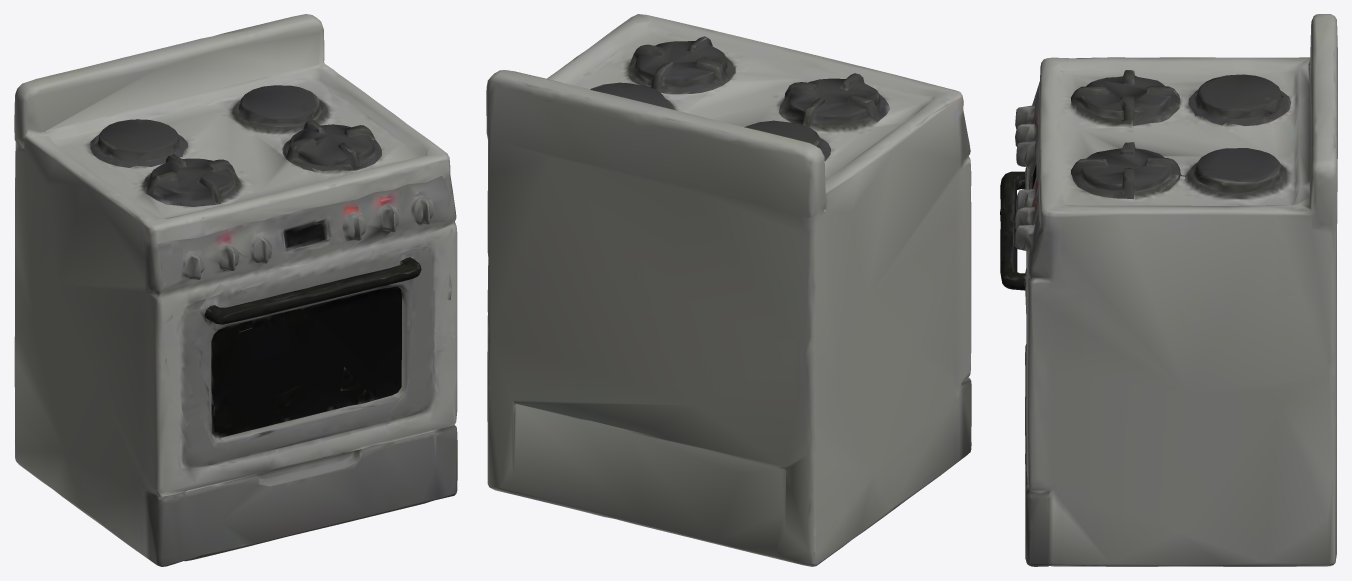
File: stove.glb
3 views of the same model, side by side, from view 1: azimuth 30°, elevation 25°; view 2: azimuth 150°, elevation 25°; view 3: azimuth 270°, elevation 25° (orthographic). The views are drawn at different scales.
Visible parts, largest first — view 1: geometry_0; view 2: geometry_0; view 3: geometry_0.
Part boxes in pixels (x1,y1,x2,y2): geometry_0: (14,14,457,566); geometry_0: (486,14,971,566); geometry_0: (1000,14,1337,566).
Size of the model in its own units: 0.8346 by 1 by 0.7592.
1 material, 1 textured.
